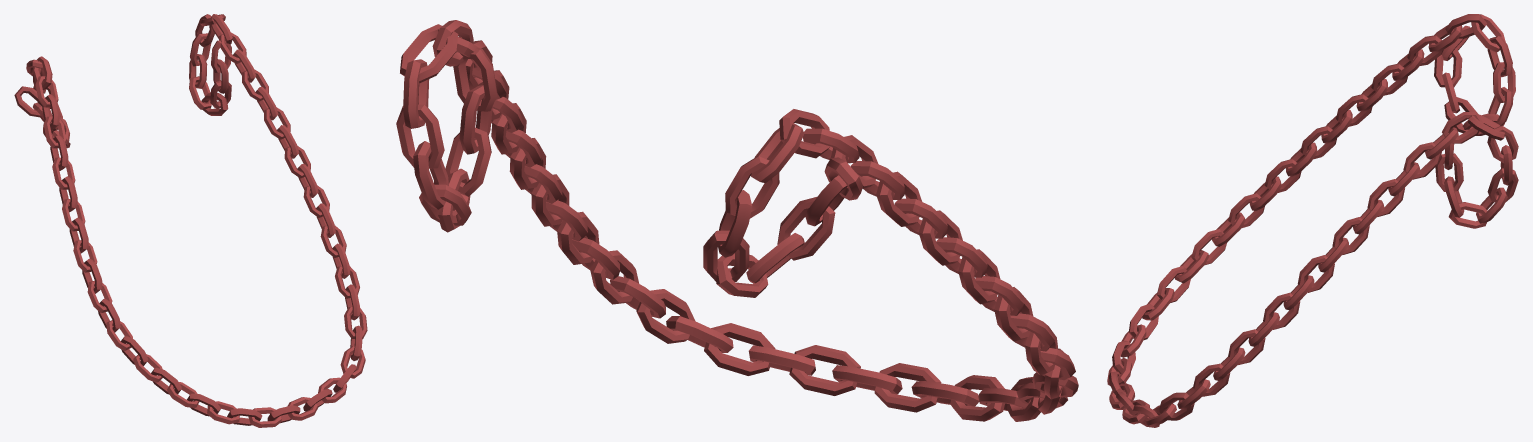
File: seguranca-obj_corrente1.fbx
The picture shows the model from 3 angles, left to right: view 1: azimuth 30°, elevation 25°; view 2: azimuth 150°, elevation 25°; view 3: azimuth 270°, elevation 25°; orthographic projection. The views are drawn at different scales.
Visible parts, largest first — view 1: Corrente_Menor; view 2: Corrente_Menor; view 3: Corrente_Menor.
Boxes of the visible parts, left/top/right/bottom form: Corrente_Menor: left=14, top=14, right=367, bottom=427; Corrente_Menor: left=396, top=20, right=1078, bottom=421; Corrente_Menor: left=1107, top=14, right=1518, bottom=427.
Bounding box in the file's own units: 8.7 × 9.18 × 10.33.
